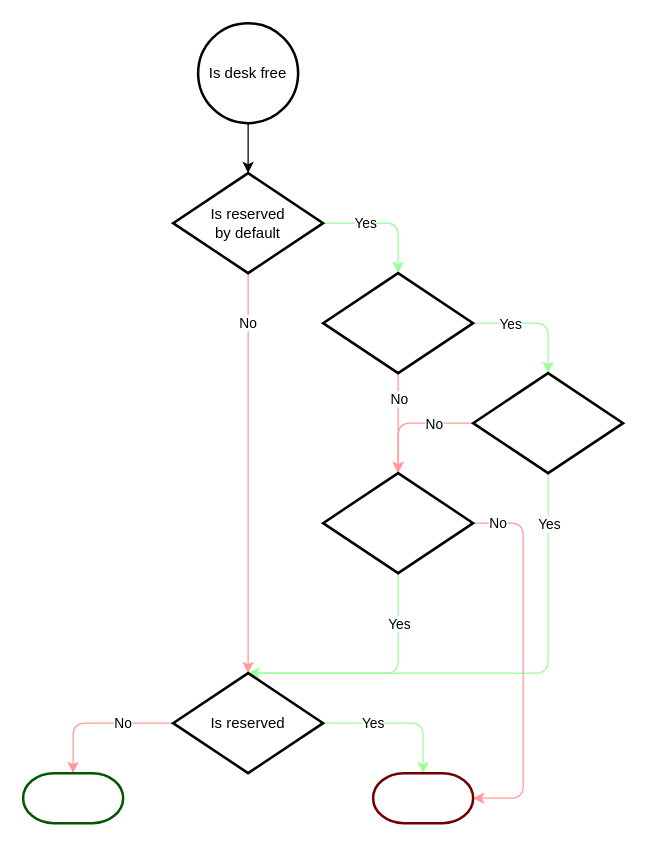
The diagram is 645 pixels wide and 845 high, and some of its shapes have lost their labels. Here are the shapes that lost their labels. From the top down, the centre of each, then its label:
At point 397,322: "Is automatically managed".
At point 547,422: "Is automatically freed".
At point 397,522: "Is manually freed".
